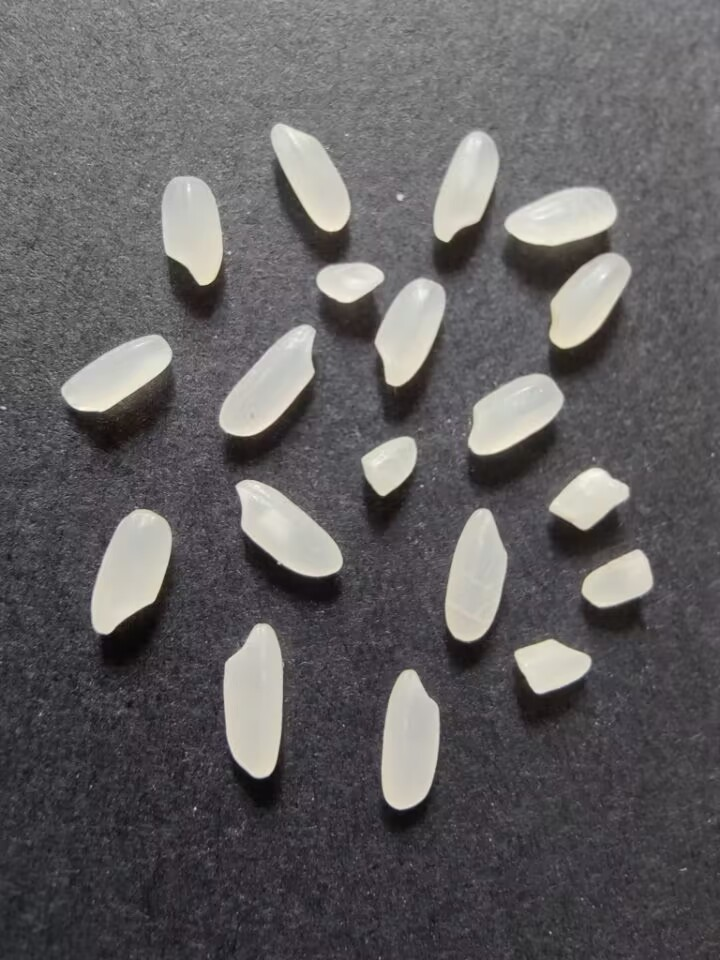broken: (545, 461, 634, 529), (573, 544, 659, 614), (507, 635, 594, 696), (306, 254, 390, 308), (356, 433, 421, 498)
rice: (212, 320, 323, 438), (84, 503, 177, 639), (229, 479, 350, 580), (216, 617, 289, 780), (265, 115, 359, 235), (437, 502, 513, 646), (56, 329, 177, 415), (377, 660, 444, 813), (457, 367, 567, 458), (371, 275, 450, 399), (539, 251, 636, 350), (427, 124, 503, 246), (156, 170, 229, 293), (500, 183, 624, 247)
